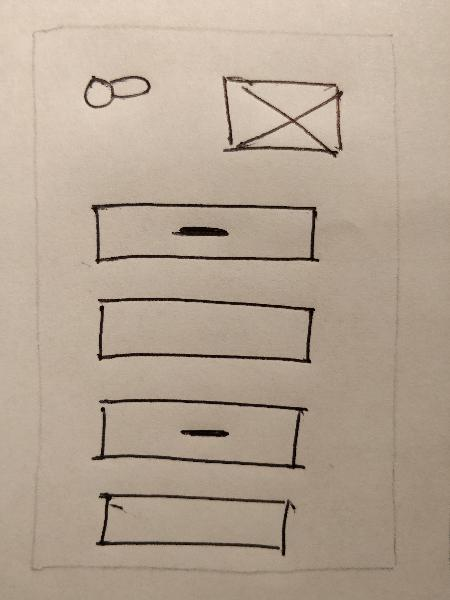button: (81, 190, 327, 275), (87, 392, 312, 475)
image: (214, 66, 350, 162)
switch: (75, 64, 158, 119)
text_input: (83, 288, 320, 371), (91, 486, 298, 561)
